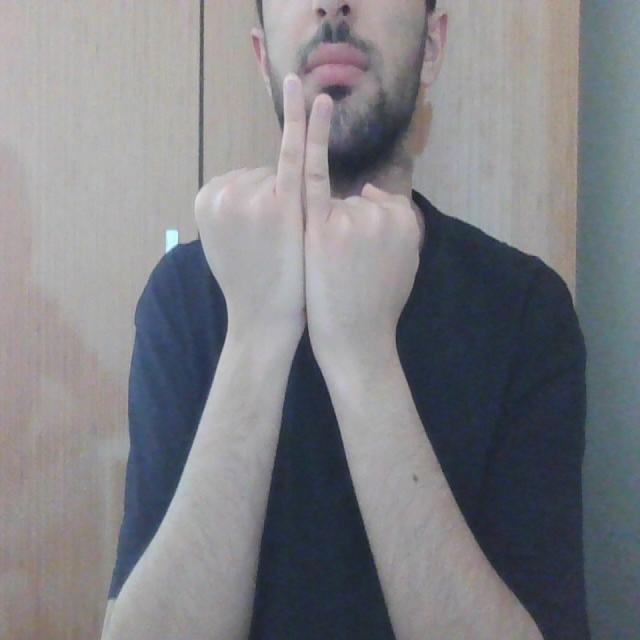Kardes: (190, 69, 428, 352)
